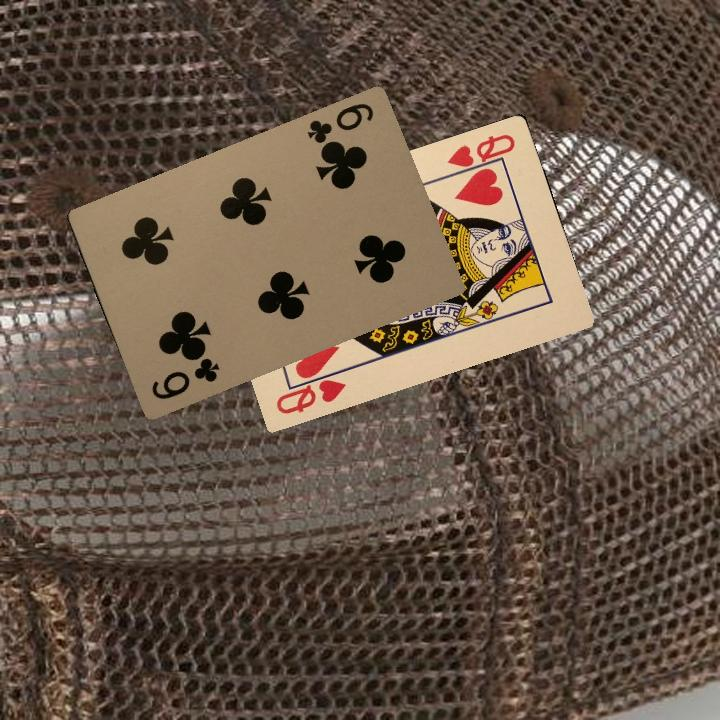6c: (303, 99, 377, 154), (147, 353, 222, 402)
Qh: (272, 365, 349, 417), (443, 130, 518, 179)
